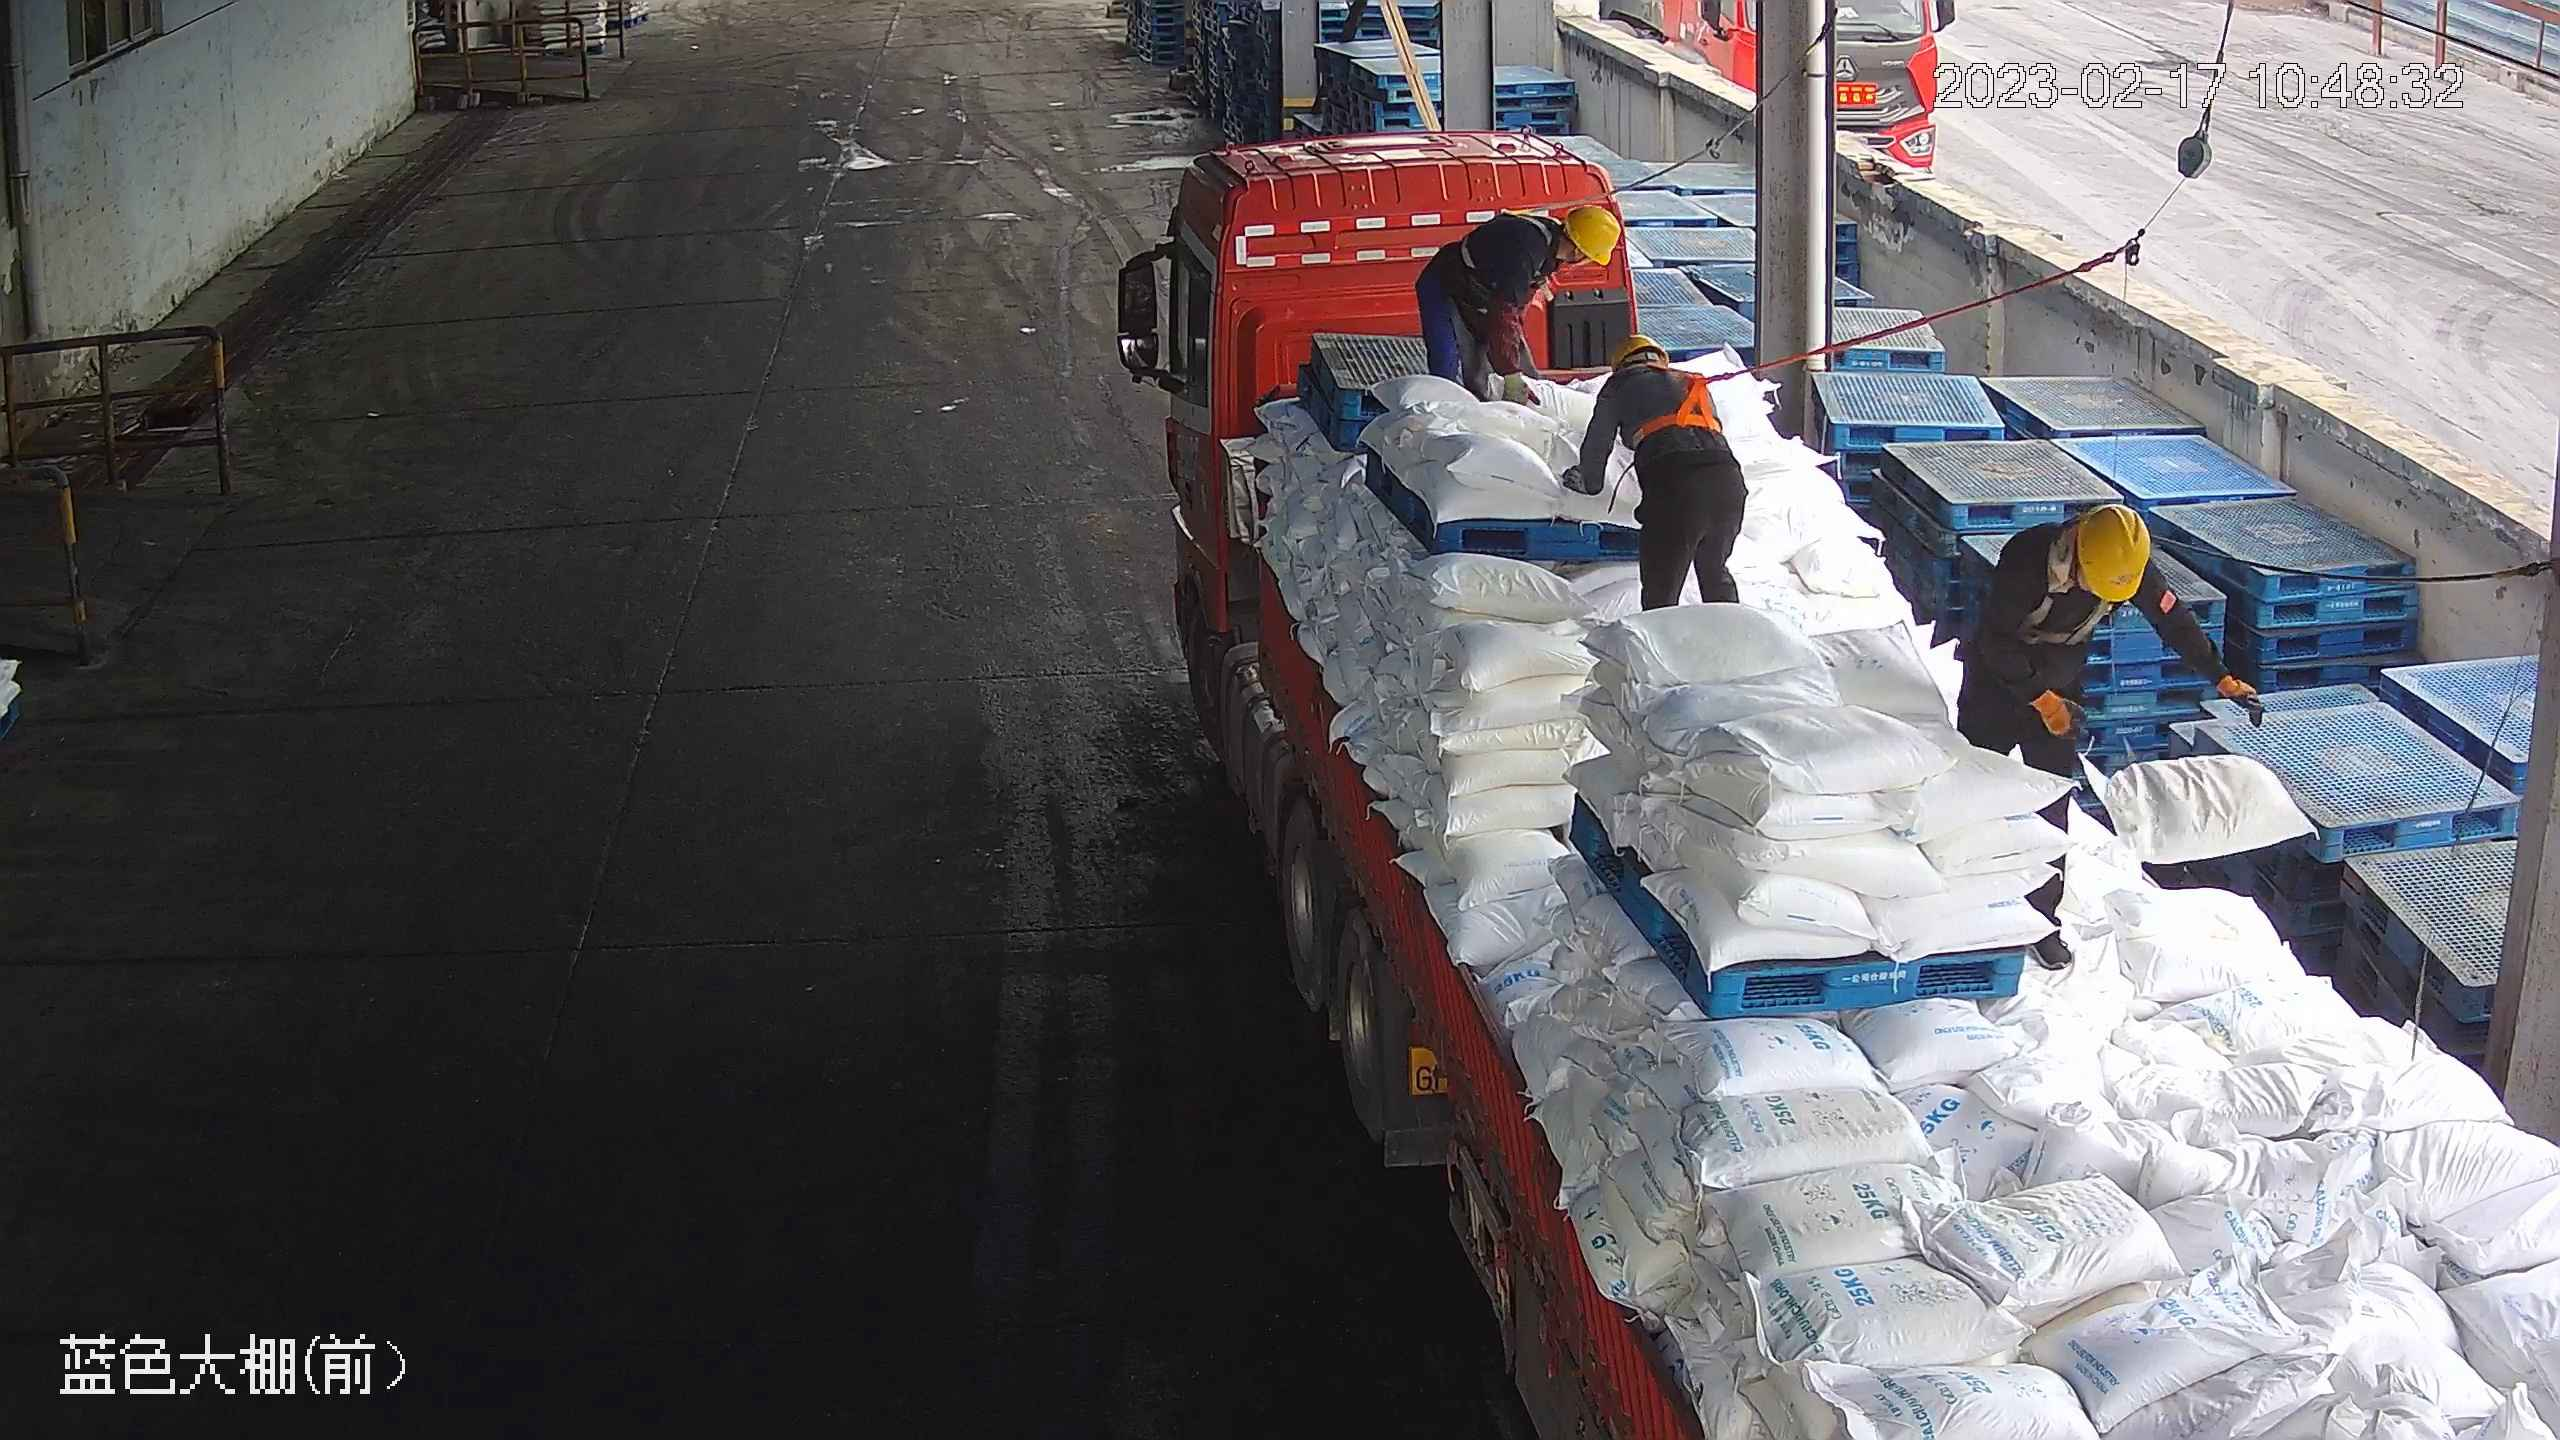belt: (2025, 526, 2103, 647), (1624, 362, 1733, 445), (1463, 199, 1553, 274)
head: (1999, 500, 2172, 629), (1493, 202, 1619, 291), (1595, 334, 1714, 409)
helmet: (2073, 502, 2153, 604), (1566, 202, 1620, 267), (1606, 333, 1662, 377)
people: (1953, 496, 2260, 962), (1563, 333, 1750, 611), (1408, 201, 1619, 408)
truck: (1111, 125, 2559, 1437)
